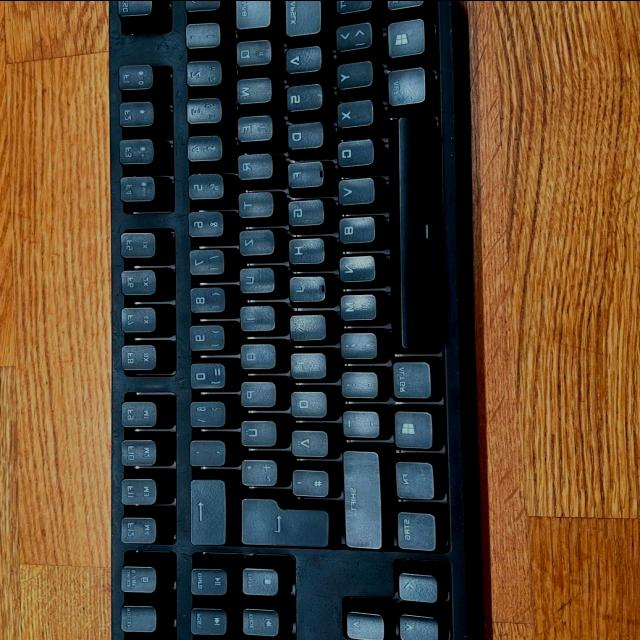0: (187, 360, 225, 388)
1: (183, 21, 219, 47)
2: (185, 58, 223, 86)
3: (184, 95, 222, 123)
4: (184, 133, 222, 160)
5: (185, 171, 223, 199)
6: (184, 209, 222, 237)
7: (186, 247, 224, 275)
8: (187, 284, 225, 312)
9: (186, 322, 224, 350)
a: (282, 44, 320, 72)
accent: (187, 437, 225, 465)
ae: (288, 428, 327, 456)
alt-left: (384, 65, 425, 105)
altgr-right: (389, 358, 431, 399)
b: (336, 215, 374, 243)
c: (334, 137, 372, 165)
caret: (182, 0, 219, 10)
comma: (337, 330, 377, 358)
d: (284, 120, 322, 148)
del: (187, 476, 224, 544)
e: (235, 113, 271, 141)
enter: (237, 496, 329, 546)
f: (285, 159, 323, 187)
g: (285, 197, 323, 225)
h: (286, 235, 324, 263)
hash: (289, 467, 329, 495)
i: (238, 303, 274, 331)
j: (286, 273, 324, 301)
k: (287, 312, 325, 340)
keyboard: (101, 0, 476, 640)
l: (288, 350, 325, 378)
less: (331, 20, 370, 50)
m: (337, 291, 376, 319)
minus: (339, 408, 378, 436)
n: (336, 253, 374, 281)
o: (238, 341, 274, 369)
oe: (288, 389, 326, 417)
p: (238, 379, 274, 407)
plus: (239, 457, 277, 485)
point: (338, 369, 376, 397)
q: (233, 37, 270, 65)
r: (235, 151, 271, 179)
s: (283, 82, 321, 110)
shift-left: (332, 0, 370, 13)
shift-lock: (282, 1, 320, 35)
shift-right: (340, 448, 380, 548)
space: (394, 113, 441, 352)
ss: (187, 398, 224, 426)
strg-left: (383, 0, 422, 13)
strg-right: (394, 509, 436, 551)
t: (236, 189, 272, 217)
tab: (233, 0, 269, 28)
u: (237, 265, 273, 293)
ue: (238, 418, 276, 446)
v: (335, 176, 373, 204)
w: (234, 75, 270, 103)
x: (333, 98, 372, 127)
y: (333, 59, 371, 87)
z: (236, 227, 272, 255)
